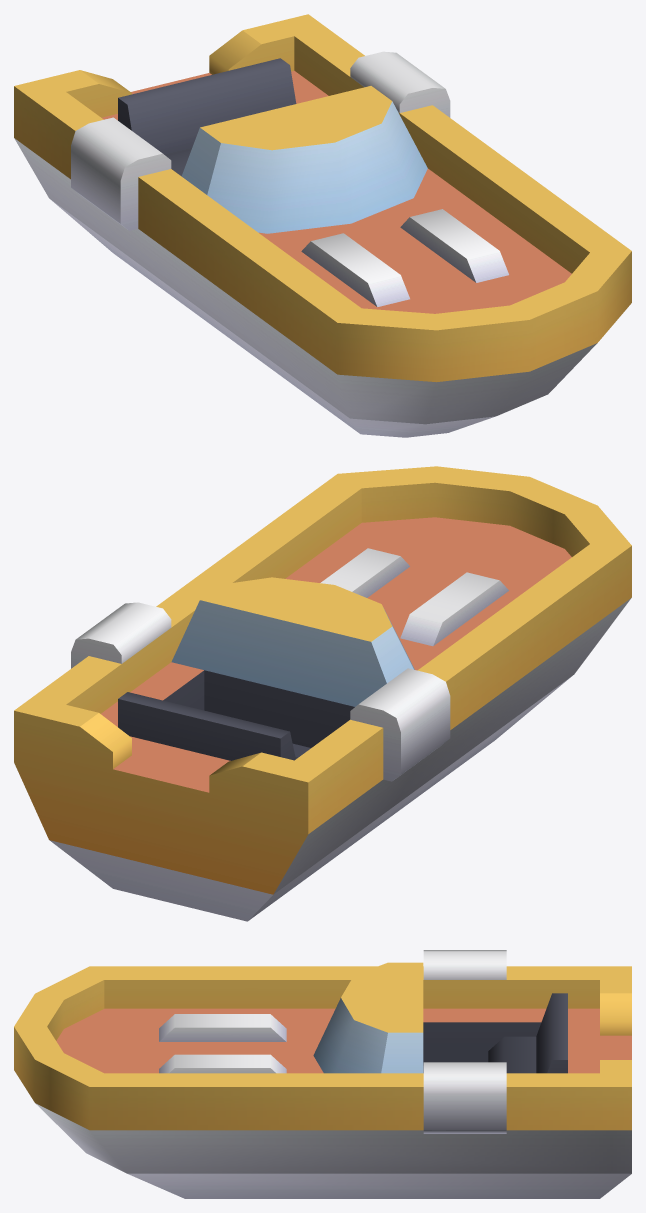
The model's file is boat-speed-d.glb.
3 views of the same model, one above another, from view 1: azimuth 30°, elevation 25°; view 2: azimuth 150°, elevation 25°; view 3: azimuth 270°, elevation 25° (orthographic). The views are drawn at different scales.
Parts seen in each view (by area): view 1: boat-speed-d; view 2: boat-speed-d; view 3: boat-speed-d.
Part boxes in pixels (bbox=[...]): boat-speed-d: bbox=[14, 14, 631, 437]; boat-speed-d: bbox=[14, 466, 631, 921]; boat-speed-d: bbox=[14, 950, 631, 1198].
Bounding box in the file's own units: 2 × 1.2 × 3.87.
1 material, 1 textured.
